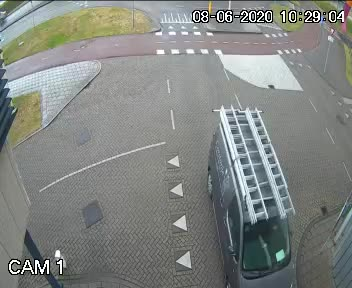car: (203, 97, 299, 288)
